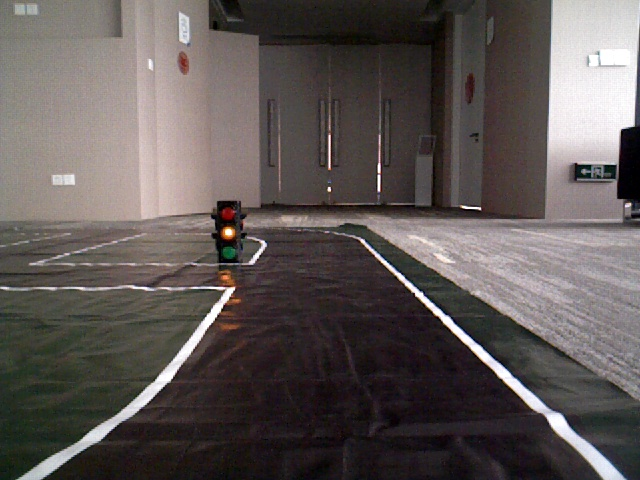yellow: (216, 207, 236, 261)
